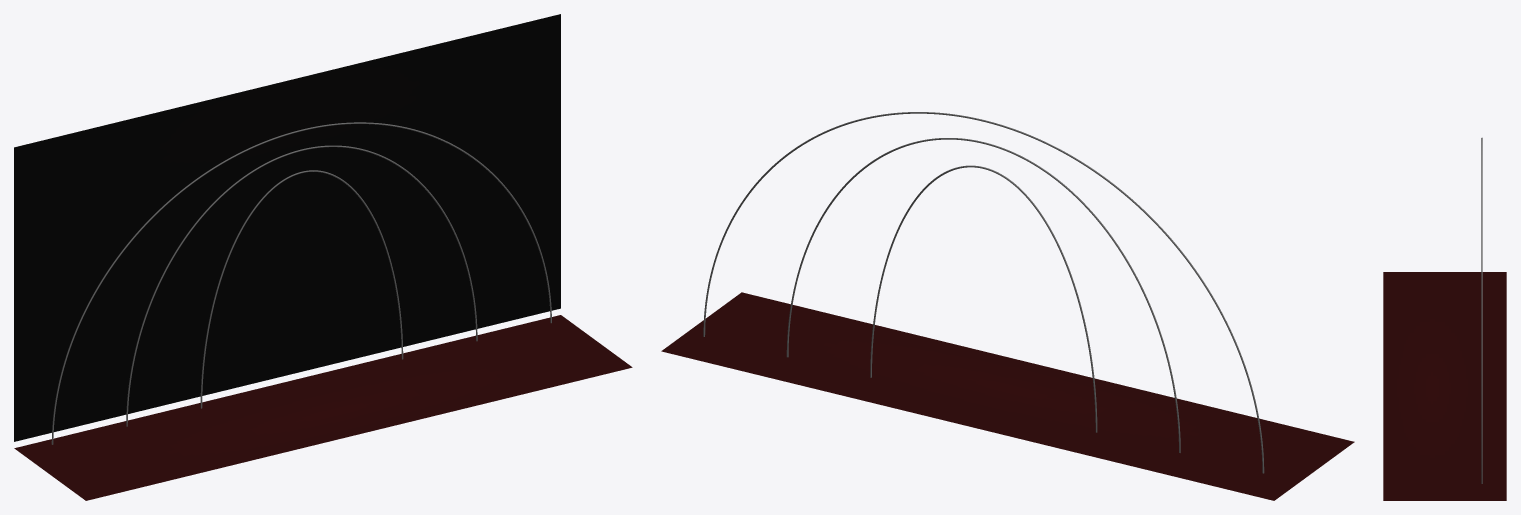
File: chamber-shell.full.glb
The picture shows the model from 3 angles, left to right: view 1: azimuth 30°, elevation 25°; view 2: azimuth 150°, elevation 25°; view 3: azimuth 270°, elevation 25°; orthographic projection. The views are drawn at different scales.
Visible parts, largest first — view 1: shell, floor, arches; view 2: floor, arches; view 3: floor, arches.
Boxes of the visible parts, bbox=[...] form: shell: bbox=[14, 14, 560, 441]; floor: bbox=[14, 315, 632, 500]; arches: bbox=[51, 122, 551, 444]; floor: bbox=[661, 292, 1354, 500]; arches: bbox=[703, 112, 1264, 473]; floor: bbox=[1383, 272, 1506, 500]; arches: bbox=[1481, 137, 1482, 483].
Size of the model in its own units: 13.6 by 7.15 by 3.1.
Materials: 3 (3 with a texture image).
